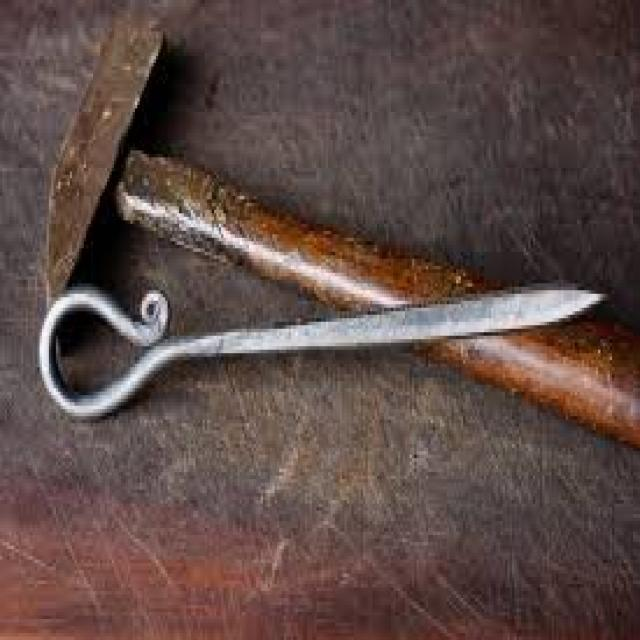hammer: (42, 4, 640, 452)
